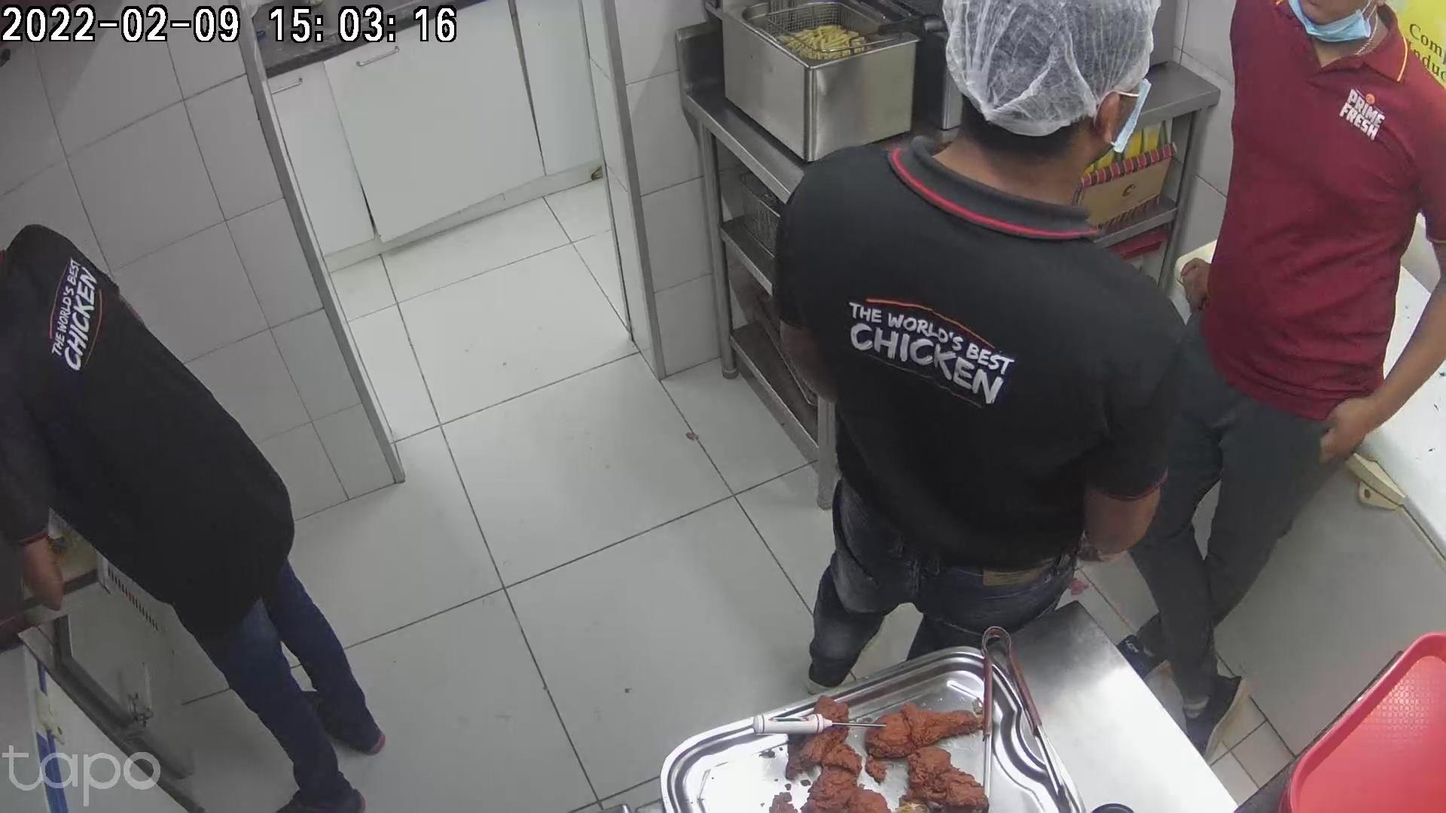no_gloves: (504, 304, 680, 379)
